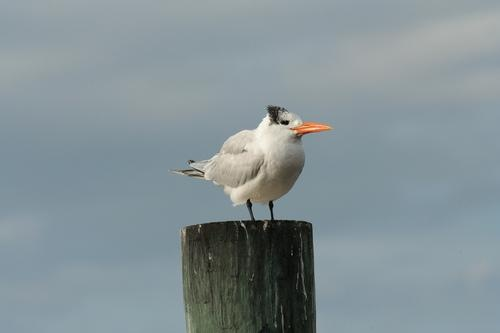bird: (172, 105, 333, 225)
